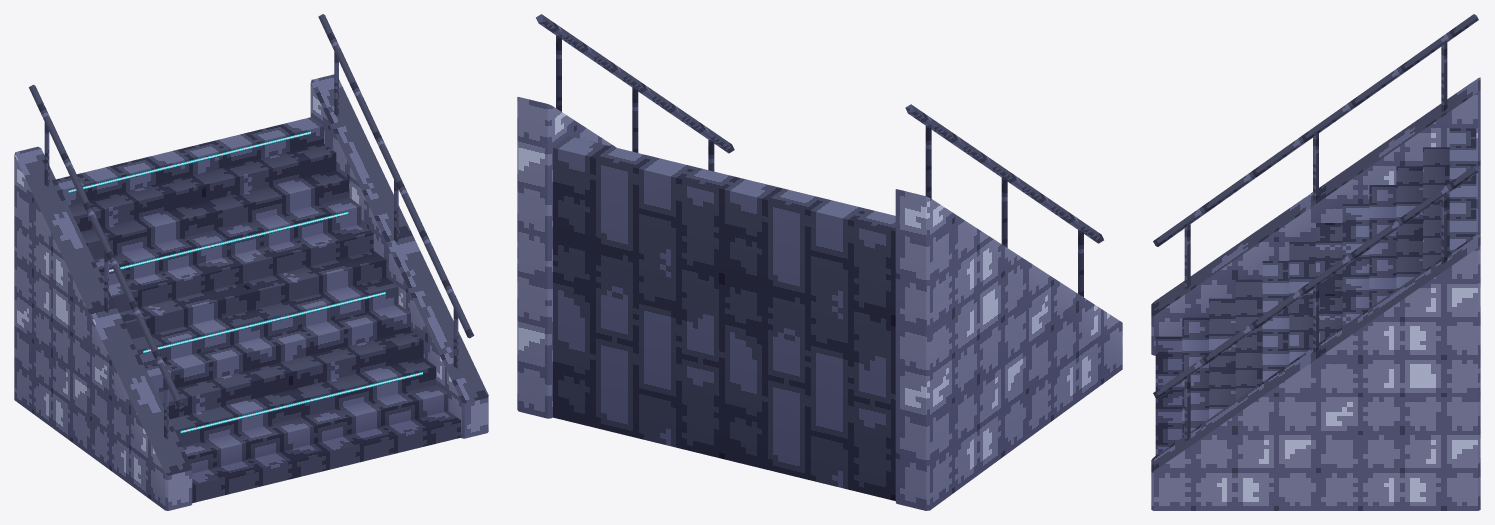
File: cystreet.stairs.glb
3 views of the same model, side by side, from view 1: azimuth 30°, elevation 25°; view 2: azimuth 150°, elevation 25°; view 3: azimuth 270°, elevation 25° (orthographic). The views are drawn at different scales.
Visible parts, largest first — view 1: kit_flight, kit_rails, kit_card_nosing; view 2: kit_flight, kit_rails; view 3: kit_flight, kit_rails.
Boxes of the visible parts, bbox=[...] form: kit_flight: bbox=[14, 74, 488, 510]; kit_rails: bbox=[29, 14, 474, 439]; kit_card_nosing: bbox=[68, 131, 422, 433]; kit_flight: bbox=[517, 97, 1122, 510]; kit_rails: bbox=[536, 14, 1103, 297]; kit_flight: bbox=[1151, 77, 1480, 510]; kit_rails: bbox=[1153, 14, 1478, 440].
Size of the model in its own units: 4.8 by 4.44 by 3.94.
Materials: 5 (5 with a texture image).
